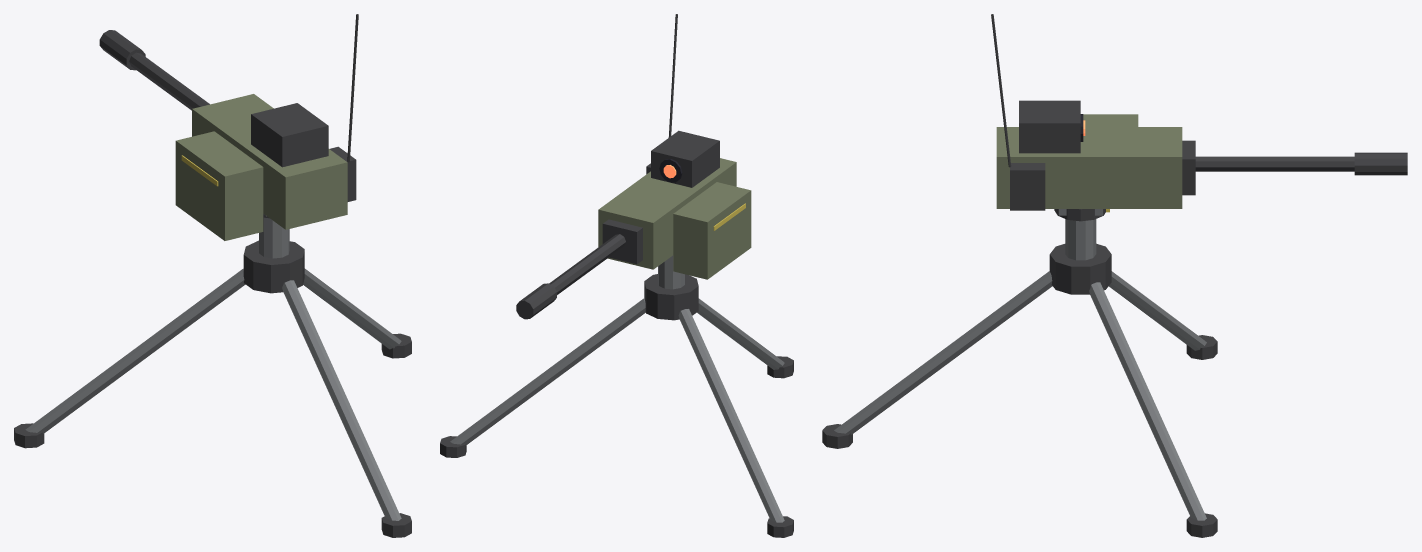
The model's file is sentry.glb.
3 views of the same model, side by side, from view 1: azimuth 30°, elevation 25°; view 2: azimuth 150°, elevation 25°; view 3: azimuth 270°, elevation 25° (orthographic). The views are drawn at different scales.
Parts seen in each view (by area): view 1: Head, Base; view 2: Head, Base; view 3: Head, Base.
Part boxes in pixels (x1,y1,x2,y2): Head: (99,14,358,240); Base: (14,214,411,537); Head: (516,14,751,319); Base: (440,255,793,537); Head: (991,14,1407,215); Base: (822,209,1217,537).
Size of the model in its own units: 1.02 by 1.12 by 1.33.
